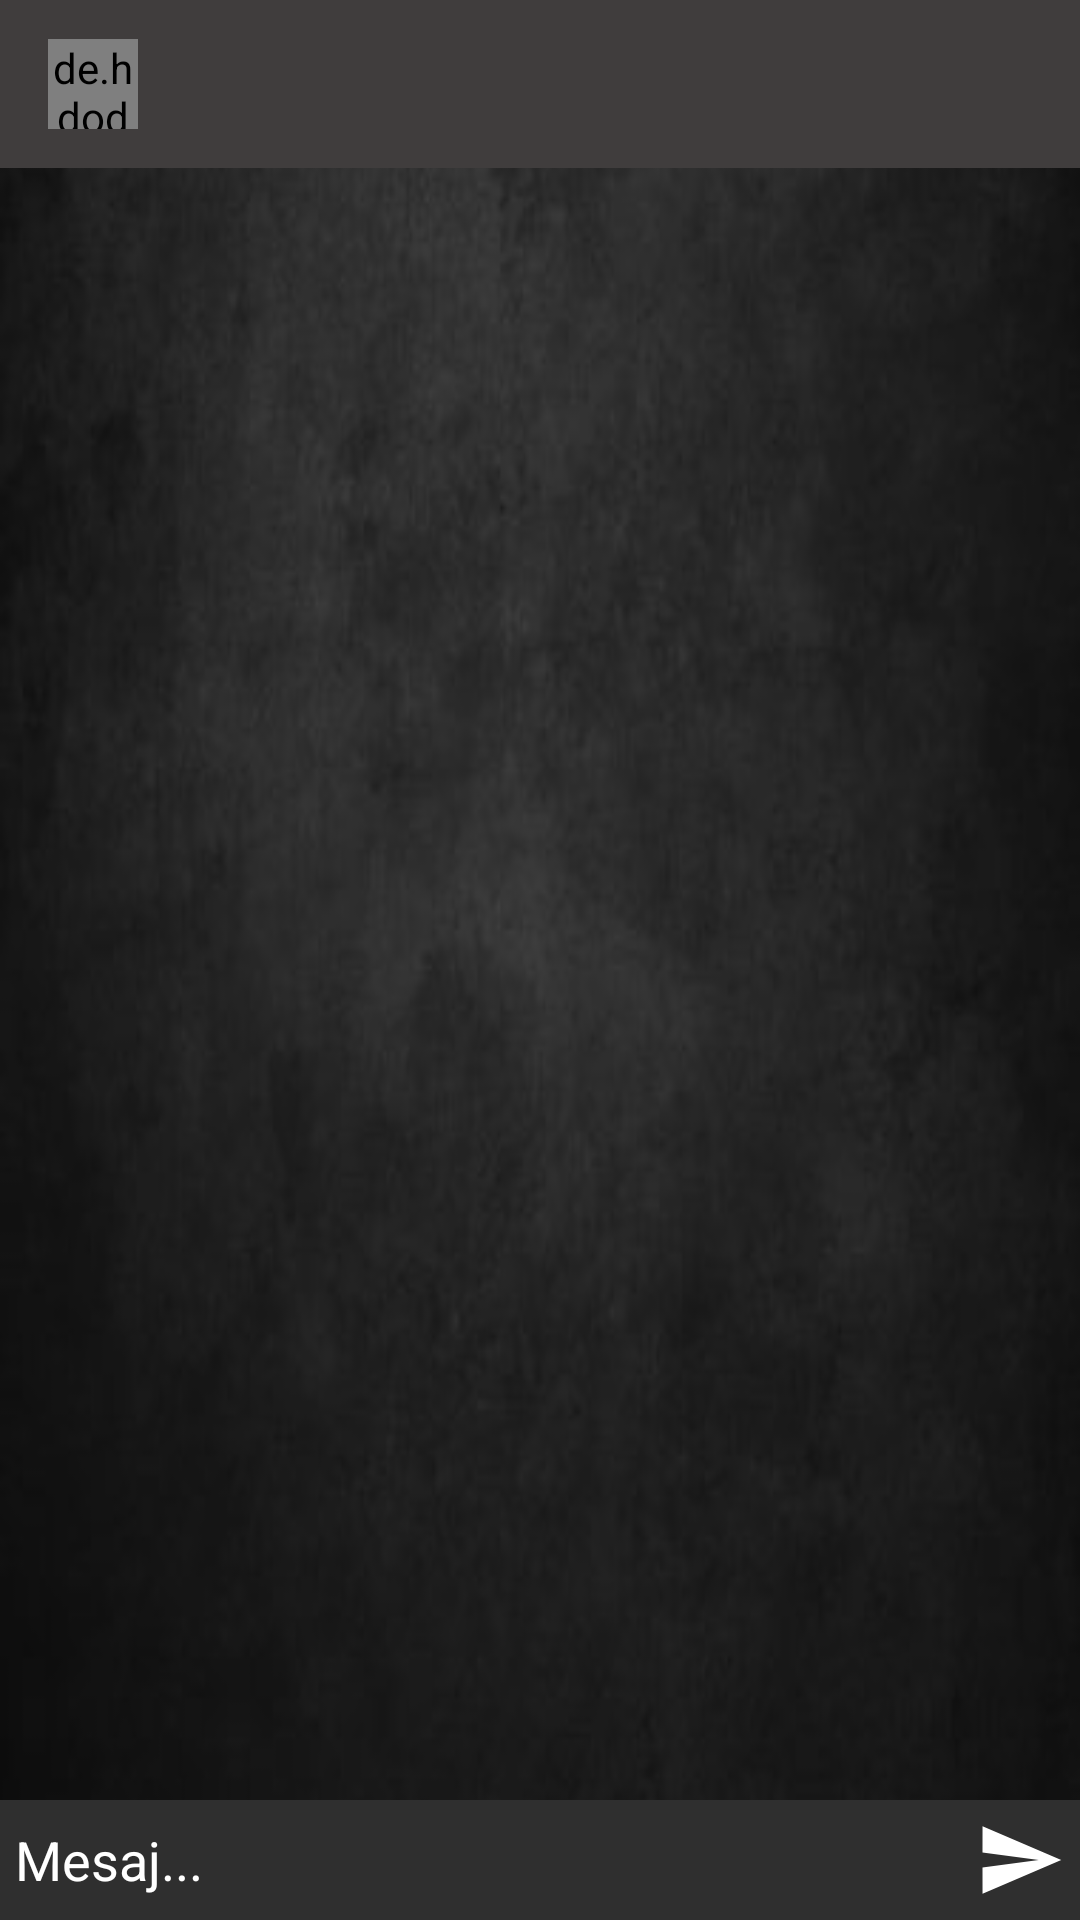

Icon bounding boxes for this 1080 x 1920 phone screenshot, format (x1, y1, x2, y2):
gonder: (982, 1826, 1061, 1894)
